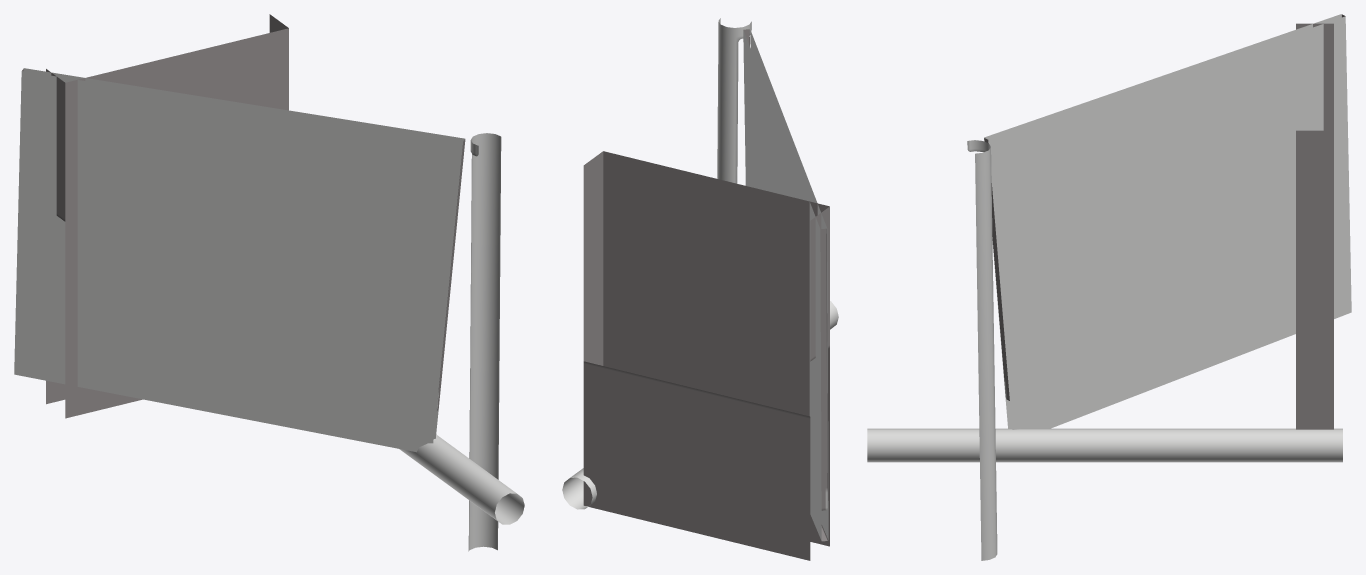
File: section-5.obj
3 renders of one model, left to right at view 1: azimuth 30°, elevation 25°; view 2: azimuth 150°, elevation 25°; view 3: azimuth 270°, elevation 25°, orthographic. The views are drawn at different scales.
Bounding box in the file's own units: 0.9852 × 1.32 × 1.42.
